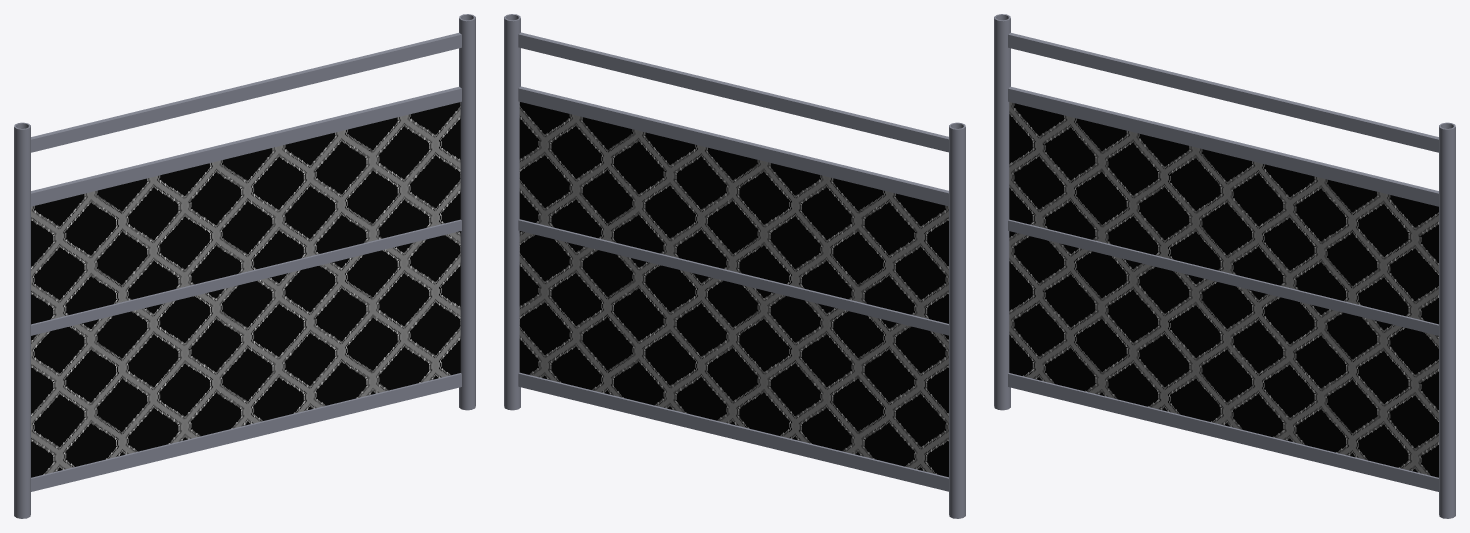
Rendered from metalfence.glb.
The picture shows the model from 3 angles, left to right: view 1: azimuth 30°, elevation 25°; view 2: azimuth 150°, elevation 25°; view 3: azimuth 330°, elevation 25°; orthographic projection.
Visible parts, largest first — view 1: MetalFence; view 2: MetalFence; view 3: MetalFence.
Boxes of the visible parts, x1,y1,x2,y2 form: MetalFence: [14, 14, 475, 518]; MetalFence: [504, 14, 965, 518]; MetalFence: [994, 14, 1455, 518].
Bounding box in the file's own units: 3.55 × 2.88 × 0.1147.
Materials: 2 (1 with a texture image).
